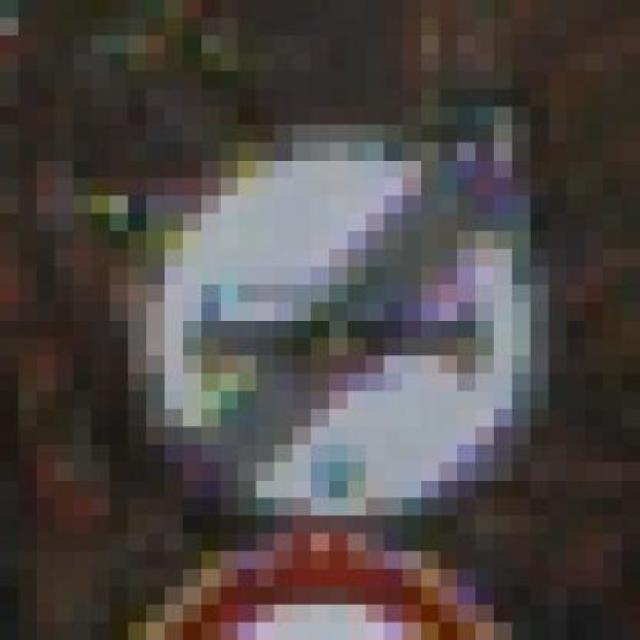No_Over_Taking: (91, 106, 604, 534)
